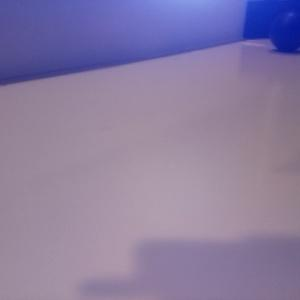dead_ball: (270, 11, 300, 52)
